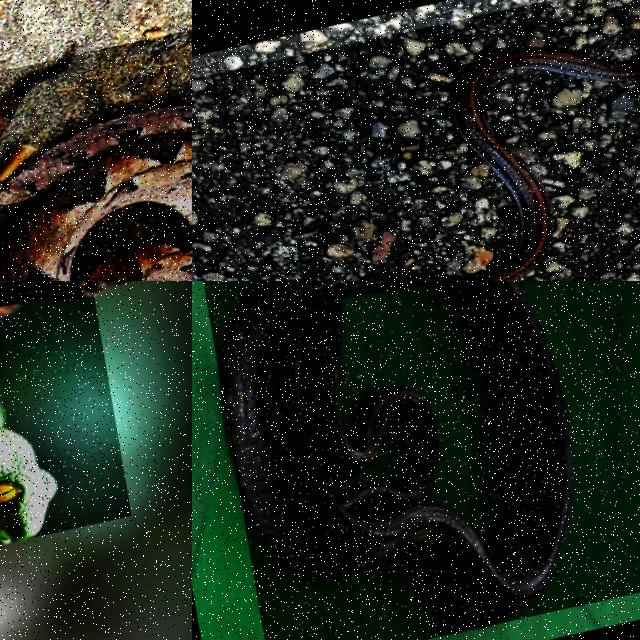Calliophis intestinalis: (382, 48, 639, 280)
Calloselasma rhodostoma: (0, 106, 191, 280)
Ophiophagus hannah: (221, 281, 571, 628)
Trimeresurus macrops: (0, 408, 54, 542)
